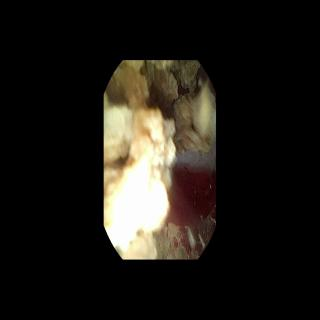stone: (105, 63, 214, 258), (185, 224, 198, 257)
